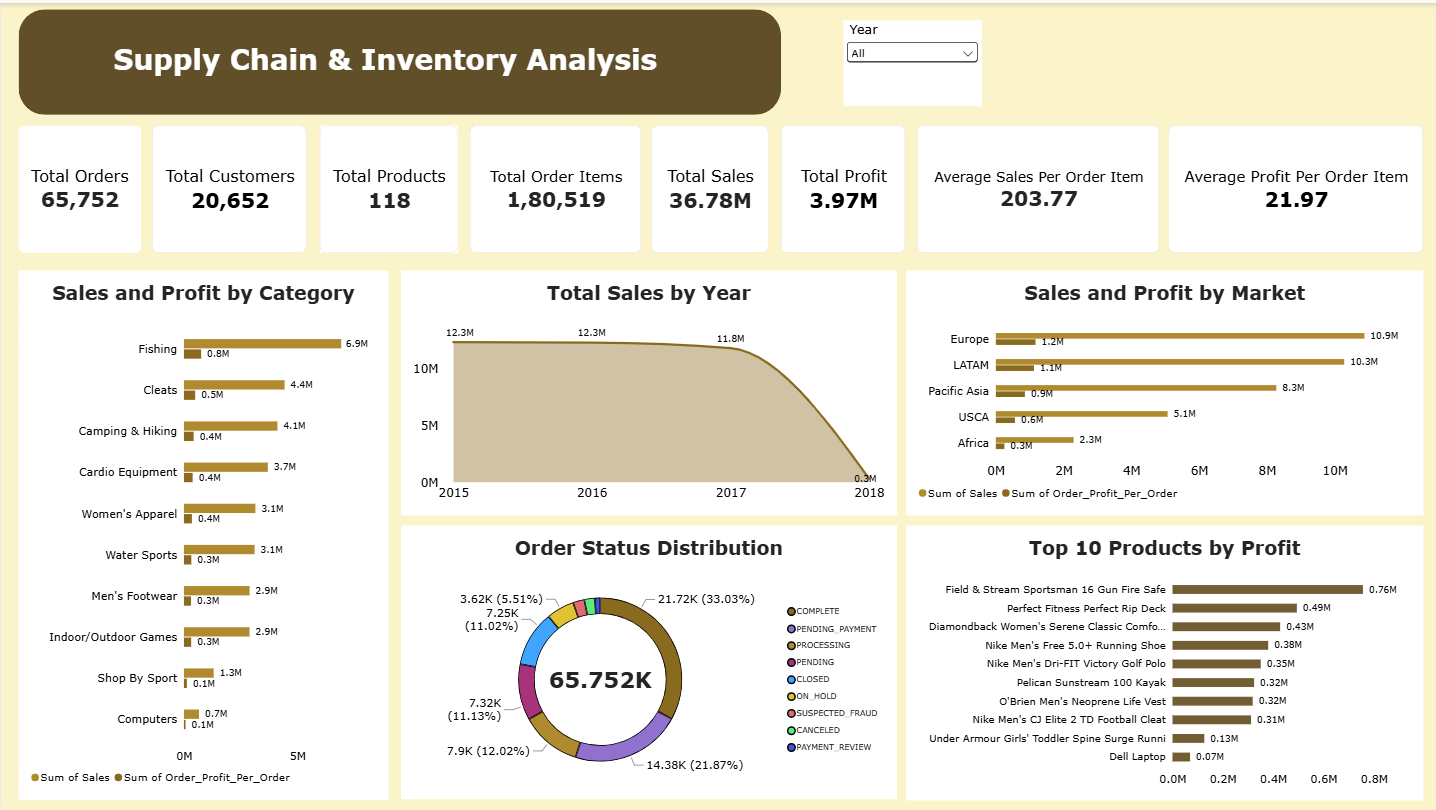

This screenshot's page, from the dashboard's own definition file:
{"tool":"powerbi","page":{"name":"Page 1","canvas":[1920,1080],"ordinal":0},"visuals":[{"type":"cardVisual","fields":{"Data":["Count(Supply_Chain_Cleaned.Order_Id)"]},"box":[23.5,162.9,164.7,170.1],"z":0},{"type":"cardVisual","fields":{"Data":["Count(Supply_Chain_Cleaned.Customer_Id)"]},"box":[202.7,162.9,206.3,170.1],"z":1000},{"type":"cardVisual","fields":{"Data":["Count(Supply_Chain_Cleaned.Product_Card_Id)"]},"box":[425.3,162.9,184.6,170.1],"z":2000},{"type":"cardVisual","fields":{"Data":["CountNonNull(Supply_Chain_Cleaned.Order_Item_Id)"]},"box":[626.1,162.9,229.8,170.1],"z":3000},{"type":"cardVisual","fields":{"Data":["Sum(Supply_Chain_Cleaned.Sales)"]},"box":[868.6,162.9,157.4,170.1],"z":4000},{"type":"cardVisual","fields":{"Data":["Sum(Supply_Chain_Cleaned.Order_Profit_Per_Order)"]},"box":[1042.4,162.9,166.5,170.1],"z":5000},{"type":"cardVisual","fields":{"Data":["Avg(Supply_Chain_Cleaned.Sales)"]},"box":[1223.3,162.9,323.9,170.1],"z":6000},{"type":"cardVisual","fields":{"Data":["Avg(Supply_Chain_Cleaned.Order_Profit_Per_Order)"]},"box":[1559.9,162.9,340.2,170.1],"z":7000},{"type":"lineChart","title":"Total Sales by Year","fields":{"Category":["Supply_Chain_Cleaned.Order_Date_DateOrders.Variation.Date Hierarchy.Year"],"Y":["Sum(Supply_Chain_Cleaned.Sales)"]},"box":[533.8,356.5,662.3,327.5],"z":8000},{"type":"clusteredBarChart","title":"Sales and Profit by Market","fields":{"Category":["Supply_Chain_Cleaned.Market"],"Y":["Sum(Supply_Chain_Cleaned.Sales)","Sum(Supply_Chain_Cleaned.Order_Profit_Per_Order)"]},"box":[1208.9,356.5,691.3,327.5],"z":9000},{"type":"clusteredBarChart","title":"Top 10 Products by Profit","fields":{"Category":["Supply_Chain_Cleaned.Product_Name"],"Y":["Sum(Supply_Chain_Cleaned.Order_Profit_Per_Order)"]},"box":[1208.9,698.5,691.3,367.4],"z":10000},{"type":"clusteredBarChart","title":"Sales and Profit by Category","fields":{"Category":["Supply_Chain_Cleaned.Category_Name"],"Y":["Sum(Supply_Chain_Cleaned.Sales)","Sum(Supply_Chain_Cleaned.Order_Profit_Per_Order)"]},"box":[23.5,356.5,494,707.6],"z":11000},{"type":"donutChart","title":"Order Status Distribution","fields":{"Category":["Supply_Chain_Cleaned.Order_Status"],"Y":["Count(Supply_Chain_Cleaned.Order_Id)"]},"box":[533.8,698.5,662.3,365.6],"z":12000},{"type":"shape","box":[23.5,9,1018.8,141.2],"z":13000},{"type":"textbox","box":[94.1,47.1,879.5,76],"z":14000},{"type":"slicer","fields":{"Values":["Supply_Chain_Cleaned.Order_Date_DateOrders.Variation.Date Hierarchy.Year"]},"box":[1125.6,23.5,184.6,114],"z":14001}]}

Visuals, with their boxes in screenshot pixels (x1, y1, x2, y2), scaled from the page's 1920x1080 canvas onto the 1436x810 screenshot:
cardVisual - Count(Supply_Chain_Cleaned.Order_Id): 18:122:141:250
cardVisual - Count(Supply_Chain_Cleaned.Customer_Id): 152:122:306:250
cardVisual - Count(Supply_Chain_Cleaned.Product_Card_Id): 318:122:456:250
cardVisual - CountNonNull(Supply_Chain_Cleaned.Order_Item_Id): 468:122:640:250
cardVisual - Sum(Supply_Chain_Cleaned.Sales): 650:122:767:250
cardVisual - Sum(Supply_Chain_Cleaned.Order_Profit_Per_Order): 780:122:904:250
cardVisual - Avg(Supply_Chain_Cleaned.Sales): 915:122:1157:250
cardVisual - Avg(Supply_Chain_Cleaned.Order_Profit_Per_Order): 1167:122:1421:250
"Total Sales by Year" lineChart: 399:267:895:513
"Sales and Profit by Market" clusteredBarChart: 904:267:1421:513
"Top 10 Products by Profit" clusteredBarChart: 904:524:1421:799
"Sales and Profit by Category" clusteredBarChart: 18:267:387:798
"Order Status Distribution" donutChart: 399:524:895:798
shape: 18:7:780:113
textbox: 70:35:728:92
slicer - Supply_Chain_Cleaned.Order_Date_DateOrders.Variation.Date Hierarchy.Year: 842:18:980:103
